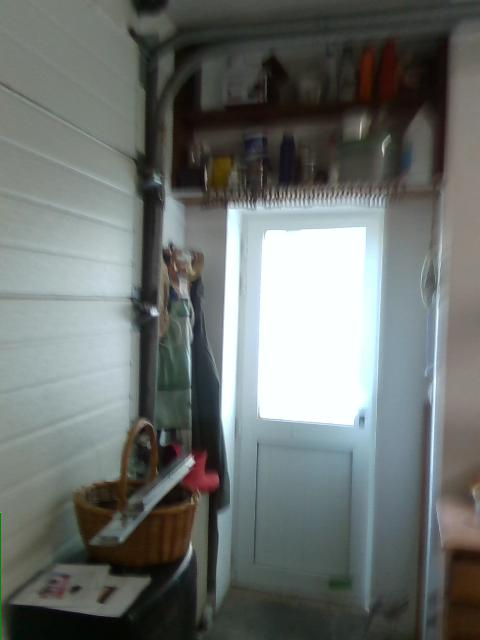closed_door: (217, 200, 383, 618)
